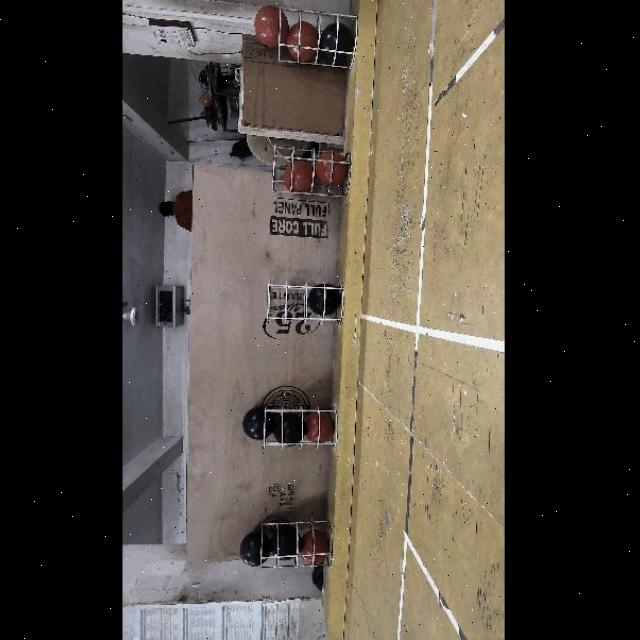P: (318, 23, 354, 59), (240, 533, 270, 569), (242, 406, 274, 439), (274, 413, 304, 447), (310, 285, 340, 315), (270, 525, 298, 557)
R: (253, 5, 289, 46), (287, 22, 317, 60), (314, 152, 344, 186), (283, 161, 313, 195), (300, 530, 328, 566), (304, 412, 332, 442)
S: (274, 8, 356, 72), (264, 146, 348, 200), (258, 520, 338, 576), (256, 280, 348, 326), (253, 402, 343, 448)
